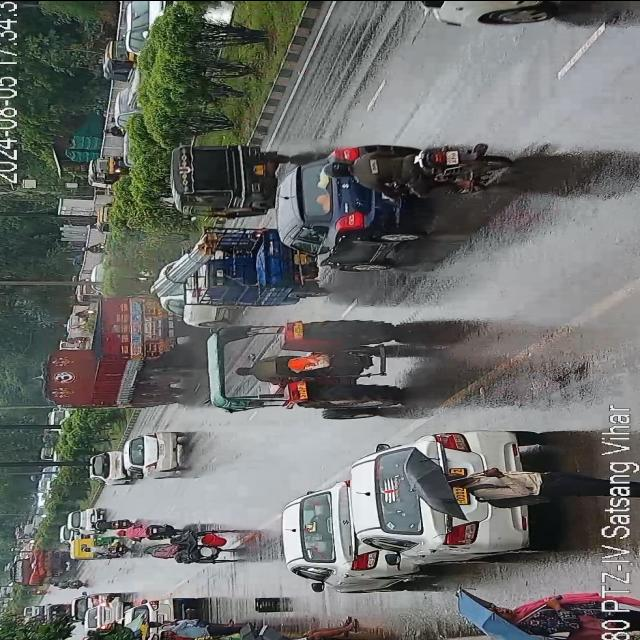2-wheelers: (328, 145, 506, 199), (122, 508, 182, 546), (92, 536, 130, 559), (90, 511, 124, 535), (52, 578, 88, 590)
auto: (197, 230, 313, 304), (175, 139, 272, 213), (136, 521, 237, 570), (80, 153, 132, 185), (70, 532, 106, 562)
car: (351, 428, 538, 558), (282, 146, 415, 268), (277, 474, 411, 592), (380, 0, 604, 29), (127, 421, 191, 477), (120, 0, 172, 57), (77, 592, 130, 640), (86, 440, 130, 482), (67, 499, 109, 534)
pedestrian: (468, 593, 640, 638), (438, 459, 584, 505), (258, 615, 356, 640), (157, 611, 239, 640), (218, 610, 290, 640)
truck: (219, 312, 411, 414), (56, 286, 182, 408), (8, 544, 68, 586)
